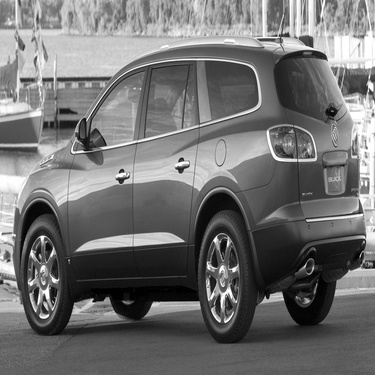car: (14, 29, 364, 324)
